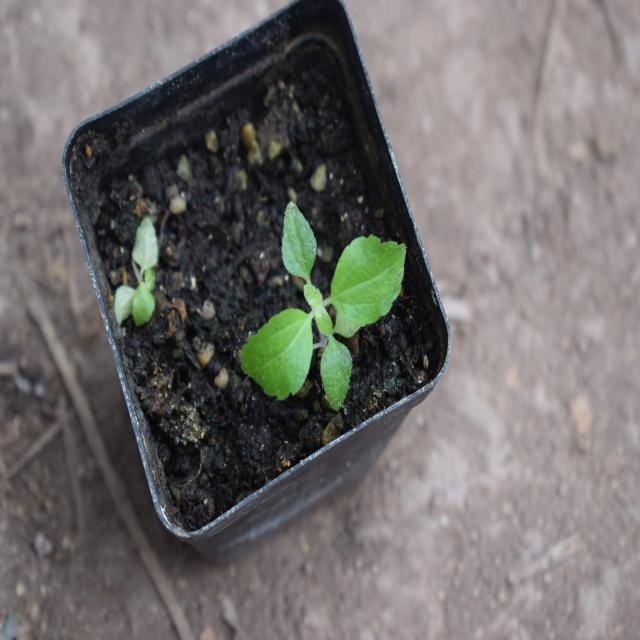billygoat_weed: (242, 215, 397, 416)
